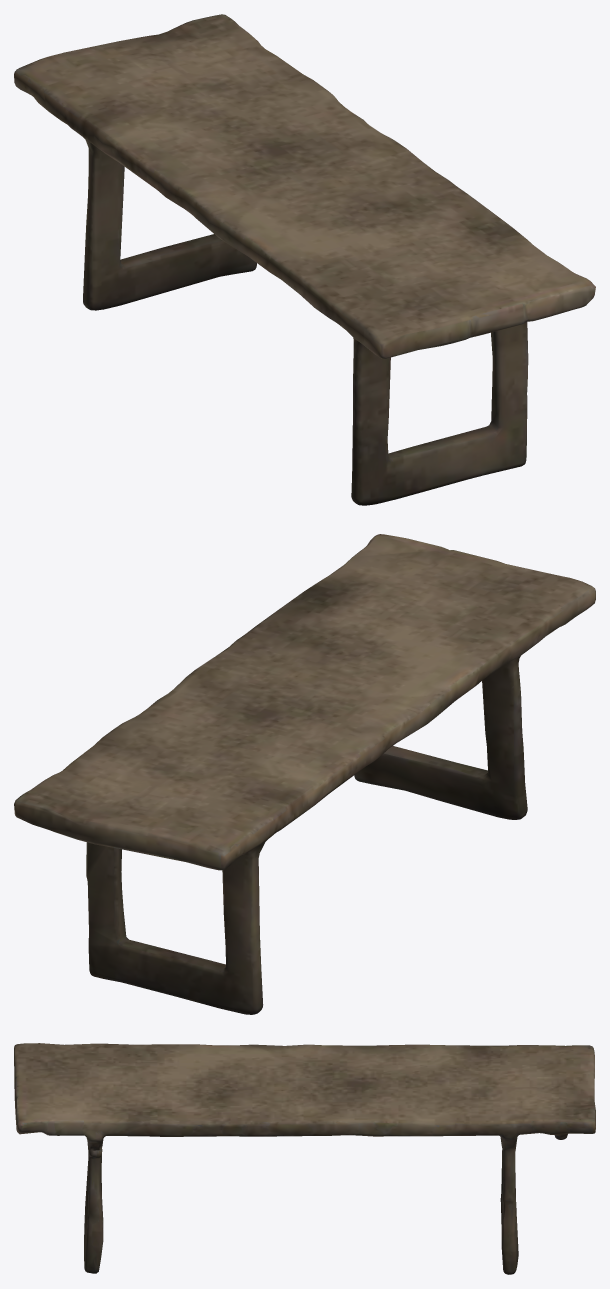
The model's file is worn-wood-banquet-table-v001.glb.
3 renders of one model, top to bottom at view 1: azimuth 30°, elevation 25°; view 2: azimuth 150°, elevation 25°; view 3: azimuth 270°, elevation 25°, orthographic. The views are drawn at different scales.
Visible parts, largest first — view 1: worn-wood-banquet-table; view 2: worn-wood-banquet-table; view 3: worn-wood-banquet-table.
Boxes of the visible parts, x1,y1,x2,y2 form: worn-wood-banquet-table: (14,14,595,505); worn-wood-banquet-table: (14,534,595,1014); worn-wood-banquet-table: (14,1043,595,1274).
Bounding box in the file's own units: 0.8077 × 0.7493 × 2.39.
Materials: 1 (1 with a texture image).
